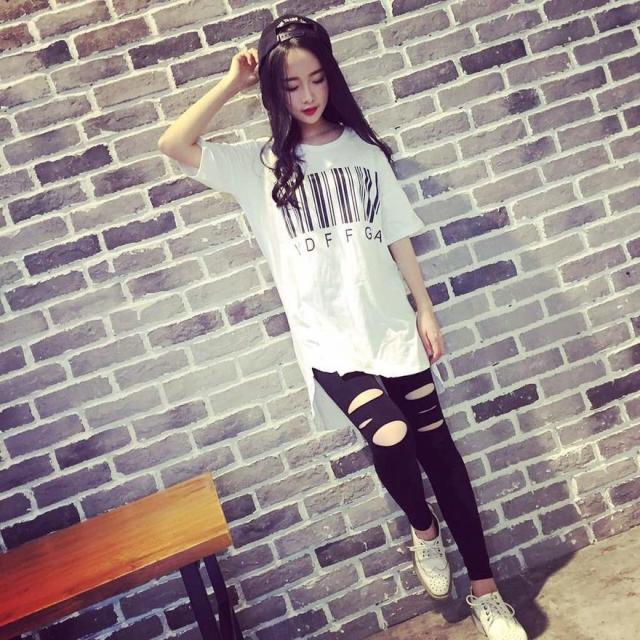short sleeve dress: (193, 116, 444, 423)
trousers: (289, 278, 491, 576)
